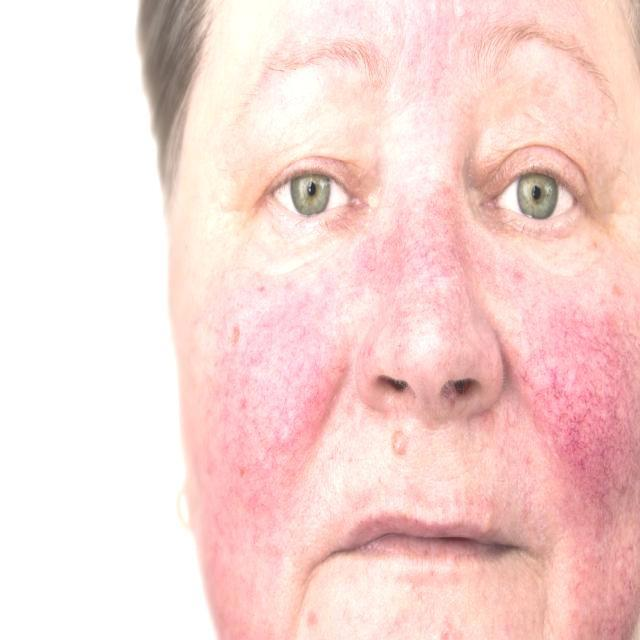Rosacea: (173, 269, 352, 626), (499, 280, 640, 640), (364, 177, 494, 356)
